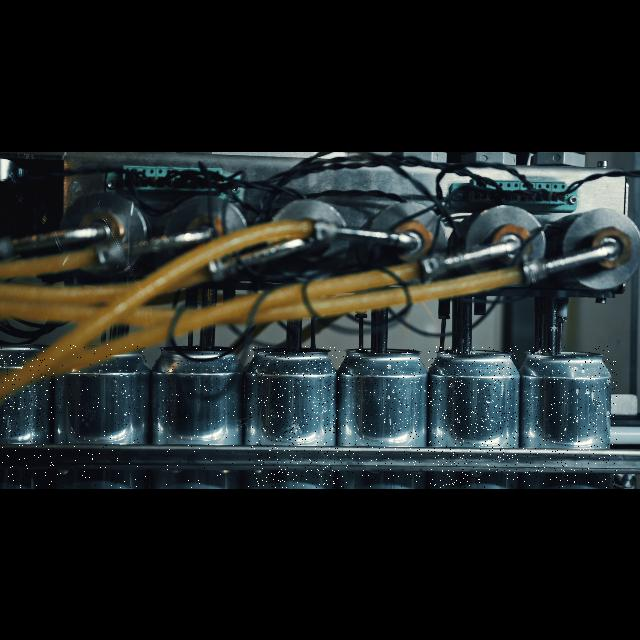empty: (523, 346, 617, 488), (56, 344, 146, 488), (428, 346, 518, 488), (248, 346, 338, 488), (338, 348, 422, 488), (157, 346, 235, 488), (0, 346, 54, 488)
